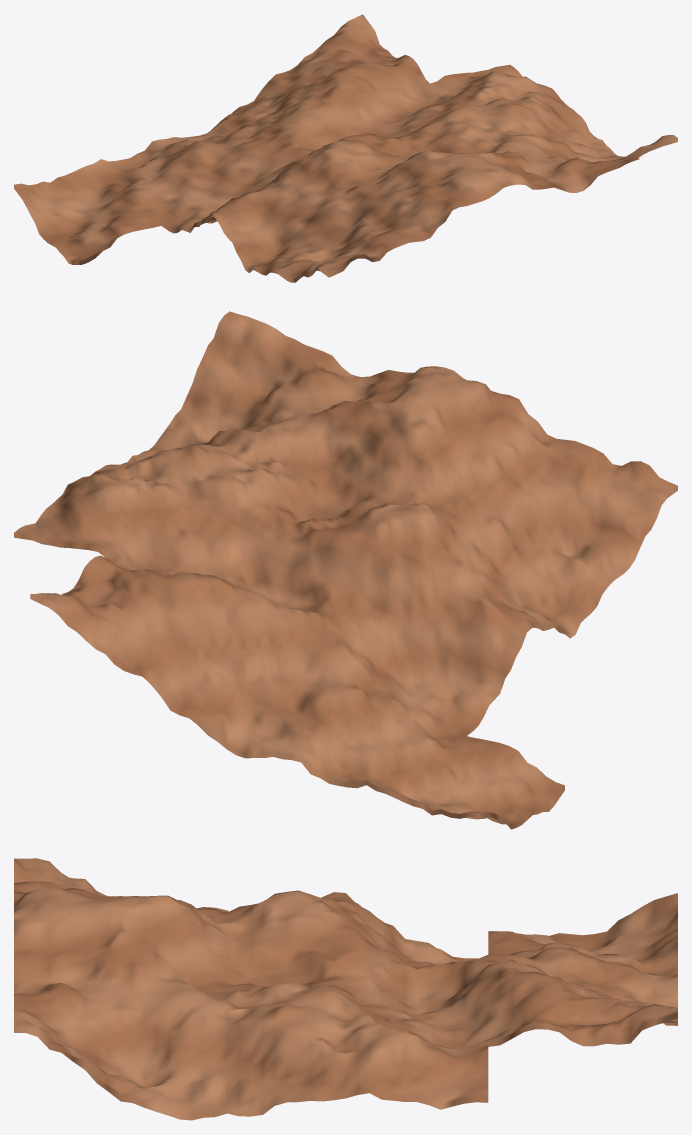
Rendered from terrain-050.glb.
3 renders of one model, top to bottom at view 1: azimuth 30°, elevation 25°; view 2: azimuth 150°, elevation 25°; view 3: azimuth 270°, elevation 25°, orthographic. The views are drawn at different scales.
Visible parts, largest first — view 1: terrain-050; view 2: terrain-050; view 3: terrain-050.
Part boxes in pixels (x1,y1,x2,y2): terrain-050: (14,14,677,282); terrain-050: (14,311,677,829); terrain-050: (14,858,677,1120).
Bounding box in the file's own units: 472 × 162 × 448.
